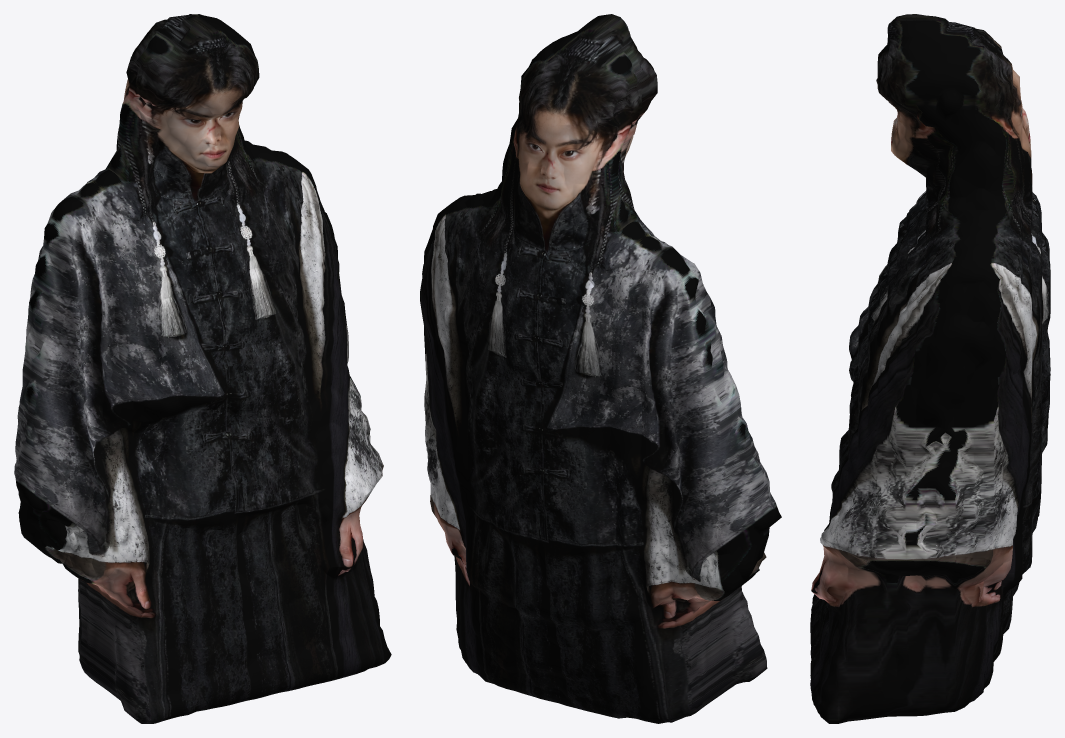
Rendered from cheng-upper-body-display-v2.glb.
3 renders of one model, left to right at view 1: azimuth 30°, elevation 25°; view 2: azimuth 150°, elevation 25°; view 3: azimuth 270°, elevation 25°, orthographic. The views are drawn at different scales.
Visible parts, largest first — view 1: ChengUpperBodyDisplay; view 2: ChengUpperBodyDisplay; view 3: ChengUpperBodyDisplay.
Boxes of the visible parts, x1,y1,x2,y2 form: ChengUpperBodyDisplay: [14, 14, 391, 723]; ChengUpperBodyDisplay: [420, 14, 781, 723]; ChengUpperBodyDisplay: [810, 14, 1050, 723].
Size of the model in its own units: 0.5463 by 1 by 0.3401.
Materials: 1 (1 with a texture image).
